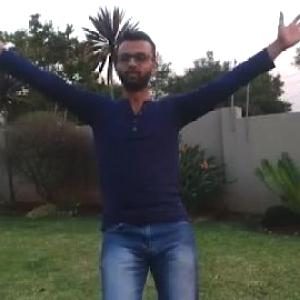takeoff: (1, 18, 300, 299)
